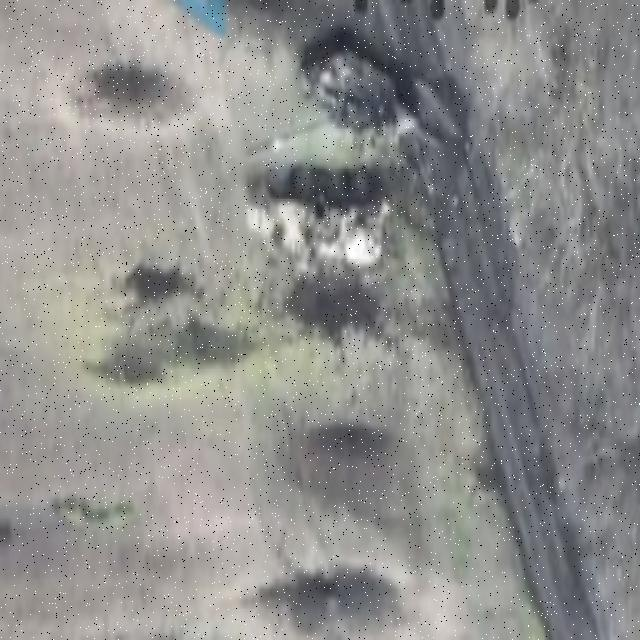APC-IFV: (244, 164, 392, 284)
TANK: (242, 36, 422, 160)
